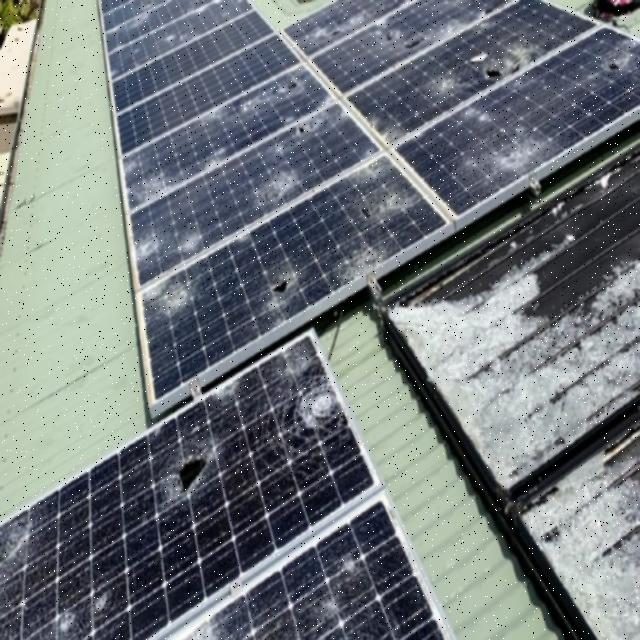physical damage: (0, 338, 382, 639), (122, 65, 446, 404), (287, 0, 640, 218), (168, 499, 448, 640)
